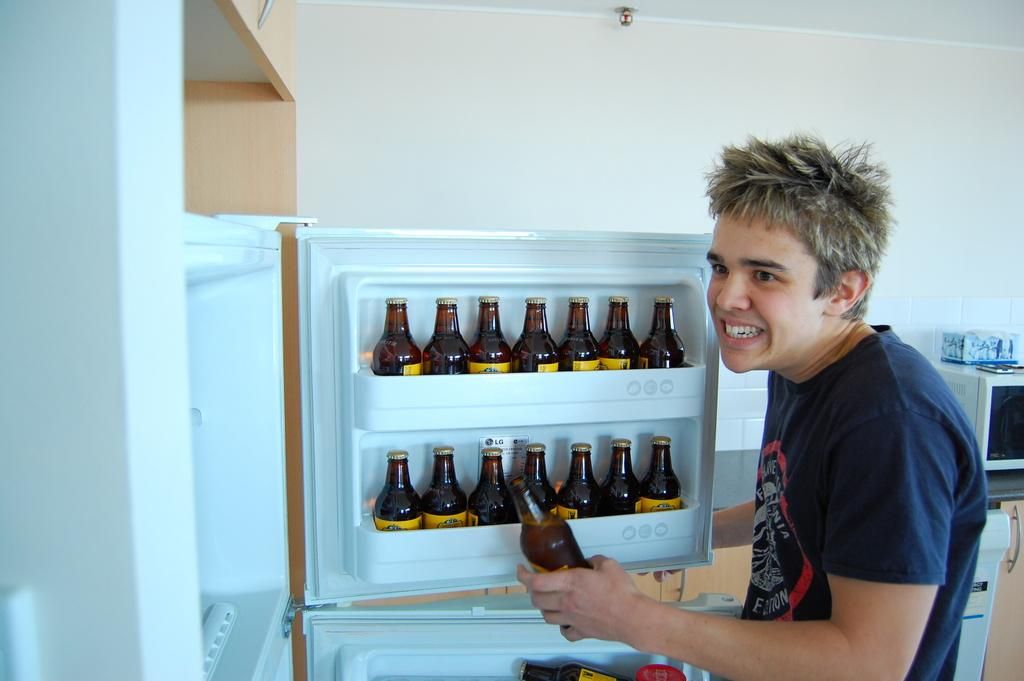handle: (1006, 506, 1024, 568)
